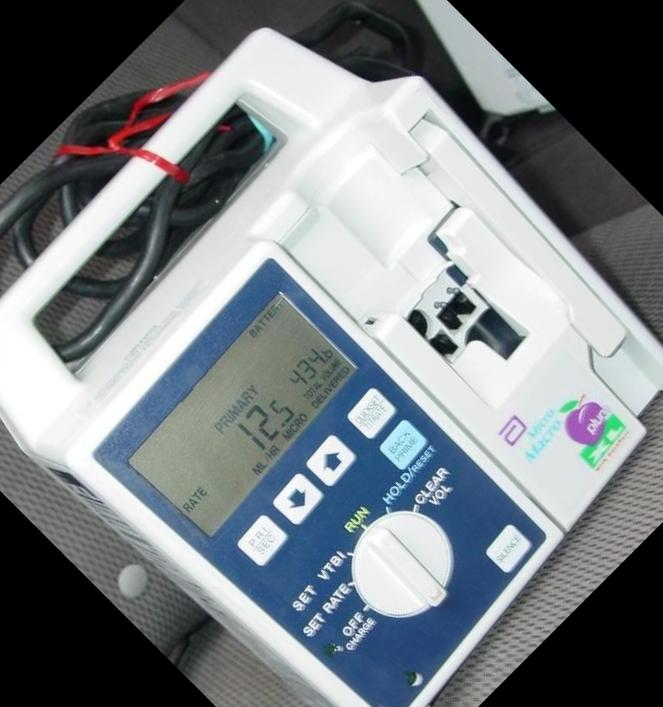plumxl1: (2, 29, 655, 703)
